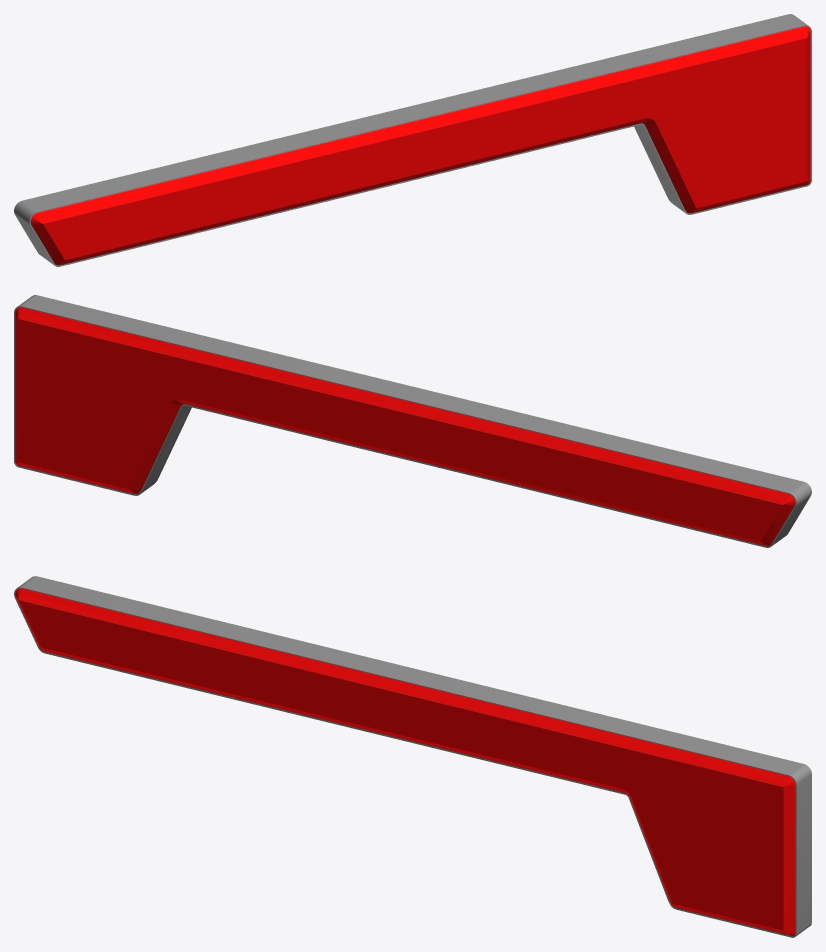
Rendered from NavBanner.gltf.
3 views of the same model, one above another, from view 1: azimuth 30°, elevation 25°; view 2: azimuth 150°, elevation 25°; view 3: azimuth 330°, elevation 25° (orthographic).
Bounding box in the file's own units: 0.5883 × 0.1167 × 0.0311.
